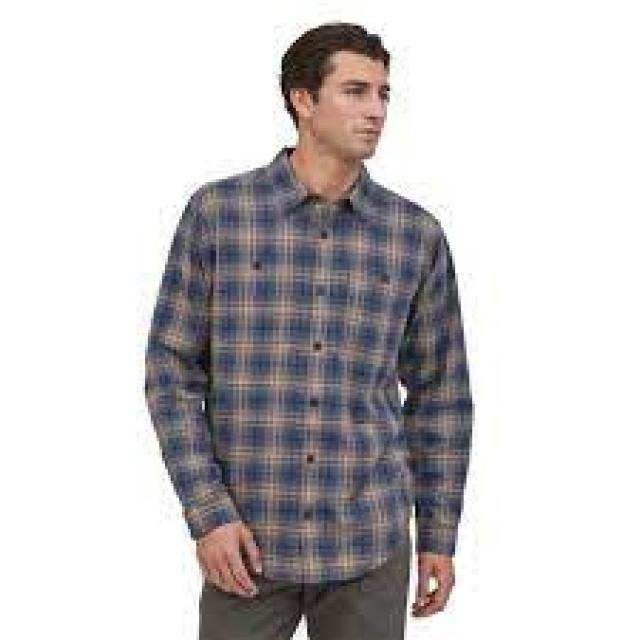plaid: (150, 140, 474, 570)
